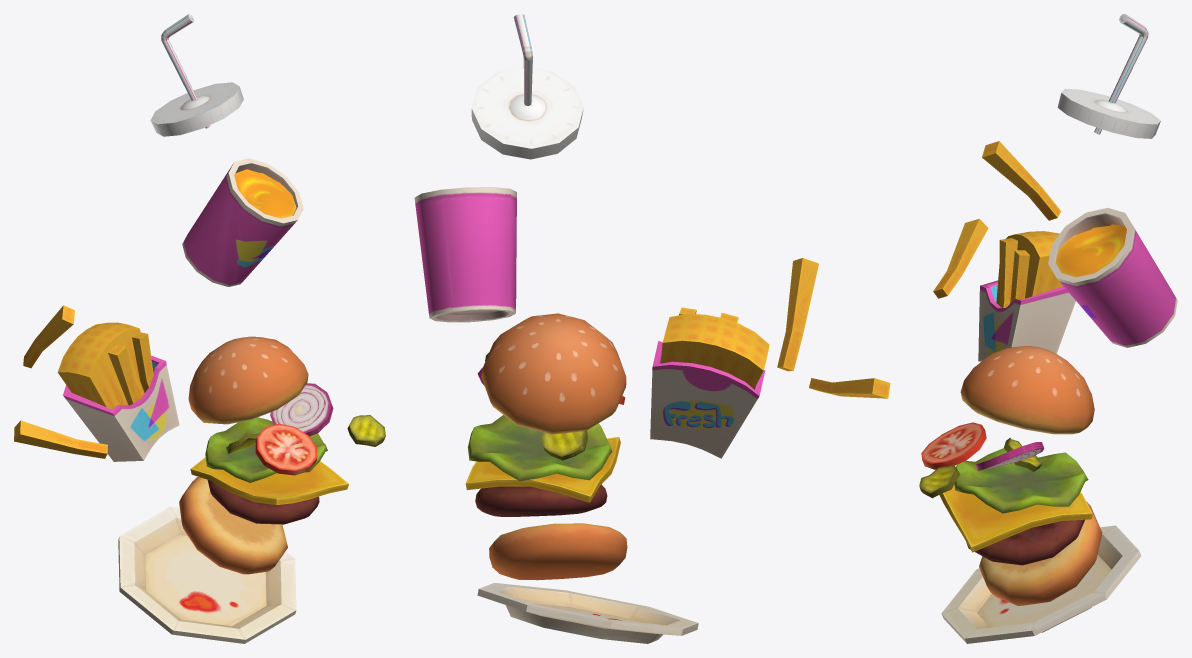
The model's file is FrenchFries4.fbx.
The picture shows the model from 3 angles, left to right: view 1: azimuth 30°, elevation 25°; view 2: azimuth 150°, elevation 25°; view 3: azimuth 270°, elevation 25°; orthographic projection. The views are drawn at different scales.
Visible parts, largest first — view 1: p_Plate, pBurger_Bun_Top, pCup_Main, pBurger_Bun_Base, pFries_Box, pFries_Main, pBurger_Cheese, pCup_Top, pBurger_Salad, pBurger_Tomato, pBurger_Patty, pBurger_Onion (+7 smaller); view 2: pBurger_Bun_Top, pCup_Main, pCup_Top, pFries_Box, p_Plate, pBurger_Bun_Base, pBurger_Salad, pFries_Main, pBurger_Patty, pBurger_Cheese, pFries_Single4, pFries_Single3 (+2 smaller); view 3: pCup_Main, pBurger_Bun_Top, p_Plate, pBurger_Salad, pFries_Box, pBurger_Bun_Base, pBurger_Cheese, pCup_Top, pBurger_Patty, pCup_Soda_Base, pFries_Main, pBurger_Tomato (+8 smaller).
Boxes of the visible parts, x1,y1,x2,y2 form: p_Plate: [118, 506, 296, 643]; pBurger_Bun_Top: [188, 336, 308, 424]; pCup_Main: [182, 158, 303, 286]; pBurger_Bun_Base: [179, 477, 287, 574]; pFries_Box: [63, 355, 179, 461]; pFries_Main: [57, 322, 144, 409]; pBurger_Cheese: [190, 457, 348, 505]; pCup_Top: [150, 82, 243, 136]; pBurger_Salad: [205, 417, 327, 482]; pBurger_Tomato: [255, 423, 317, 475]; pBurger_Patty: [207, 480, 319, 524]; pBurger_Onion: [270, 383, 333, 436]; pBurger_Bun_Top: [481, 313, 626, 434]; pCup_Main: [414, 187, 516, 322]; pCup_Top: [471, 66, 583, 159]; pFries_Box: [650, 341, 765, 458]; p_Plate: [477, 583, 698, 643]; pBurger_Bun_Base: [489, 523, 627, 580]; pBurger_Salad: [467, 415, 611, 481]; pFries_Main: [660, 313, 769, 388]; pBurger_Patty: [475, 484, 607, 516]; pBurger_Cheese: [465, 437, 620, 502]; pFries_Single4: [777, 258, 818, 371]; pFries_Single3: [809, 378, 890, 398]; pCup_Main: [1048, 208, 1177, 347]; pBurger_Bun_Top: [960, 346, 1094, 434]; p_Plate: [941, 525, 1141, 643]; pBurger_Salad: [954, 448, 1088, 513]; pFries_Box: [978, 280, 1075, 361]; pBurger_Bun_Base: [979, 501, 1102, 605]; pBurger_Cheese: [939, 485, 1092, 552]; pCup_Top: [1057, 88, 1160, 138]; pBurger_Patty: [966, 519, 1084, 565]; pCup_Soda_Base: [1056, 224, 1126, 277]; pFries_Main: [996, 231, 1062, 304]; pBurger_Tomato: [921, 422, 986, 469].
Bounding box in the file's own units: 6.43 × 9.76 × 3.69.
